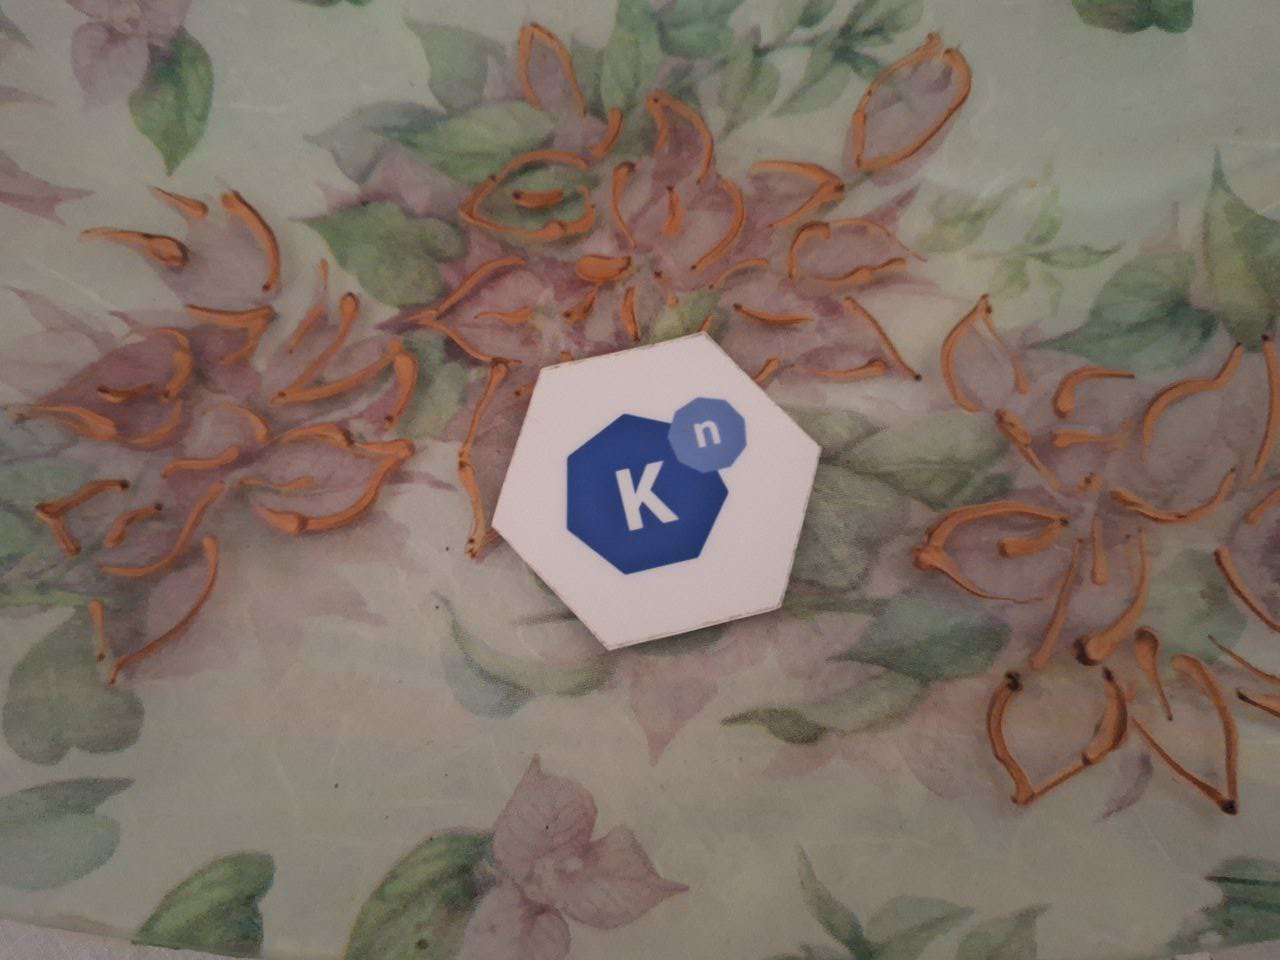knative: (564, 396, 748, 573)
